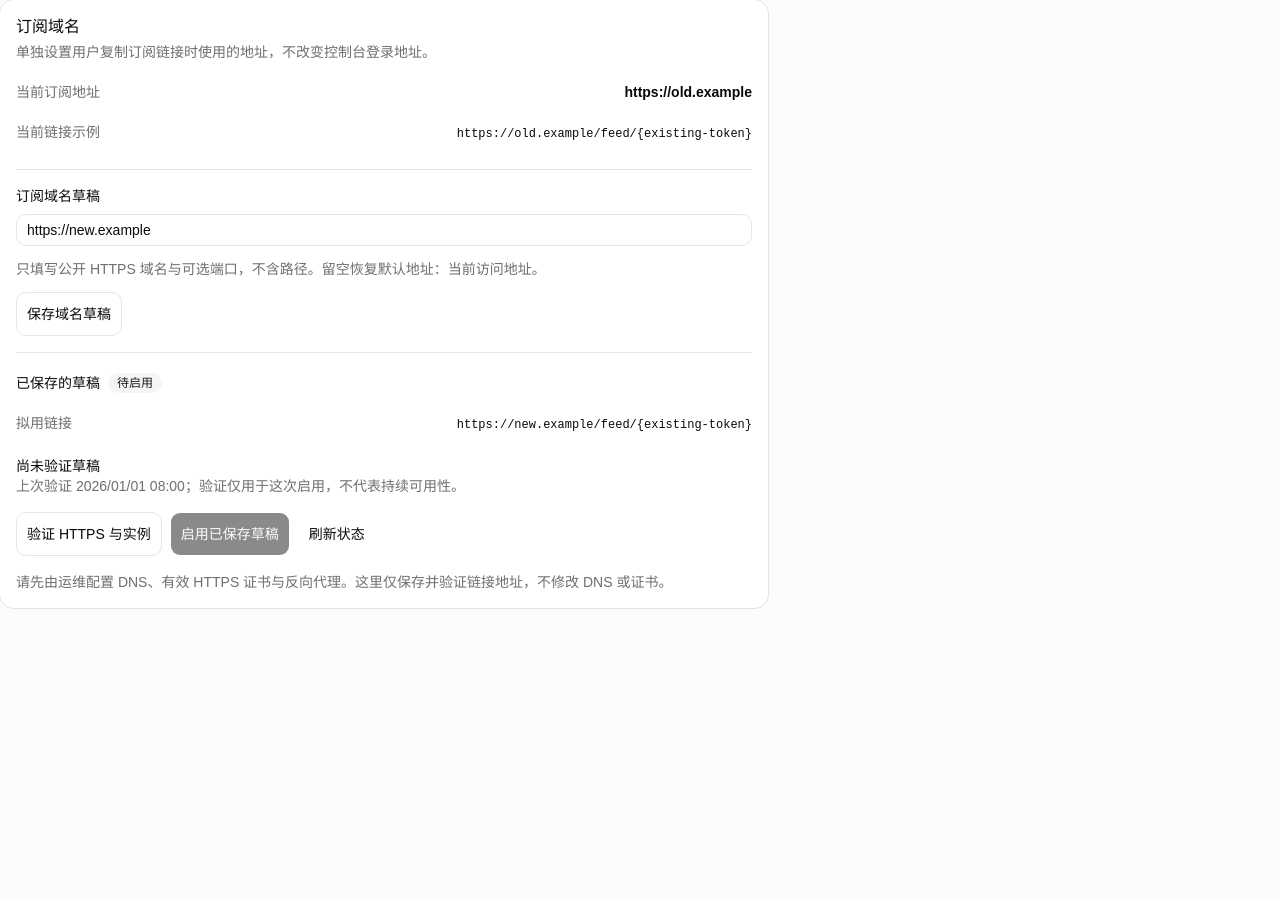
Scenario: refreshes a failed verification without replacing the active domain or losing typed input on stale activation
Expected: the text "https://old.example" is shown, [624,84,752,100]
Click the button "验证 HTTPS 与实例" at (89, 534), box [16,512,162,556]
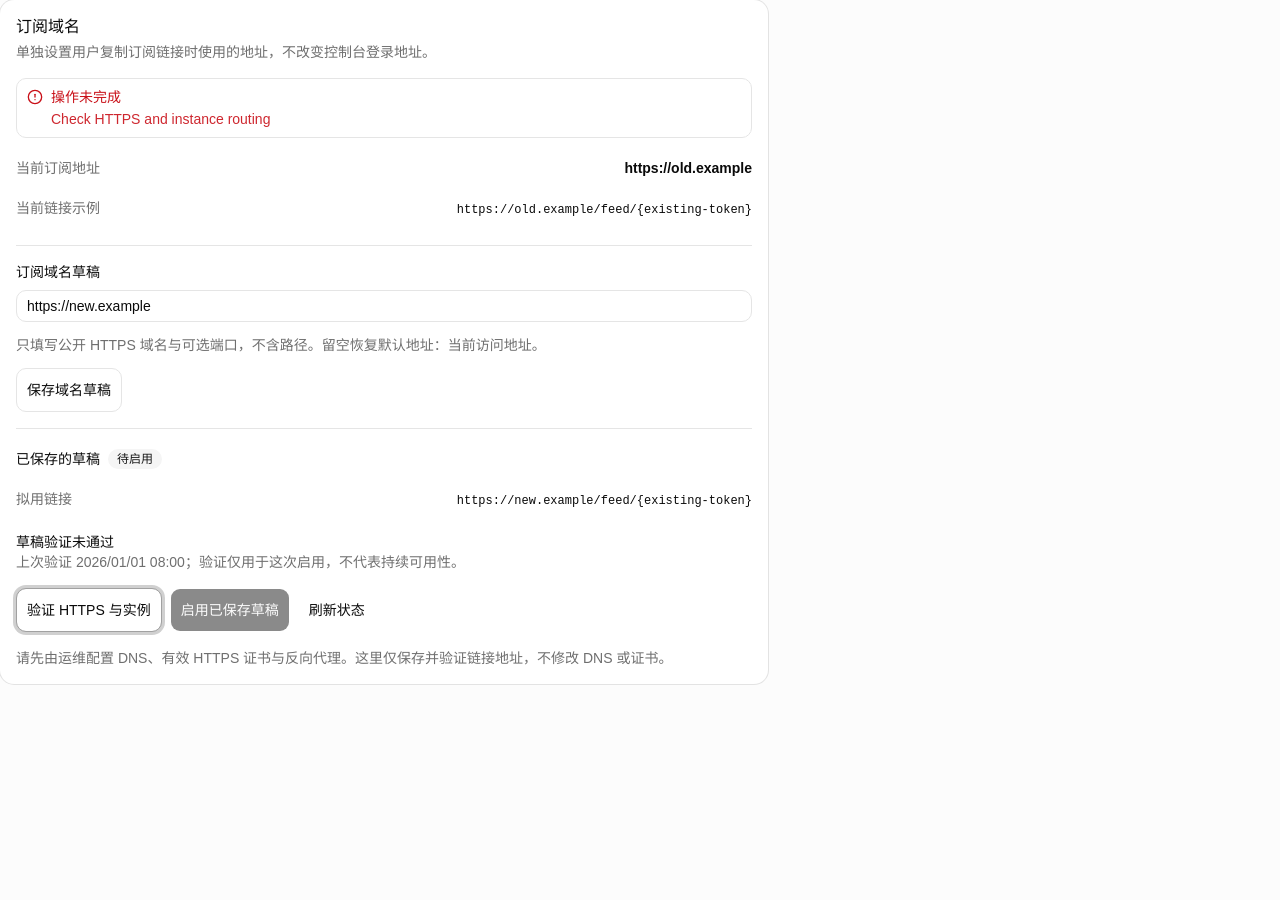
Expected: the text "https://old.example" is shown, [624,160,752,176]
Now the text "Check HTTPS and instance routing" is shown, box [51,111,270,127]
Click the button "验证 HTTPS 与实例" at (89, 610), box [16,588,162,632]
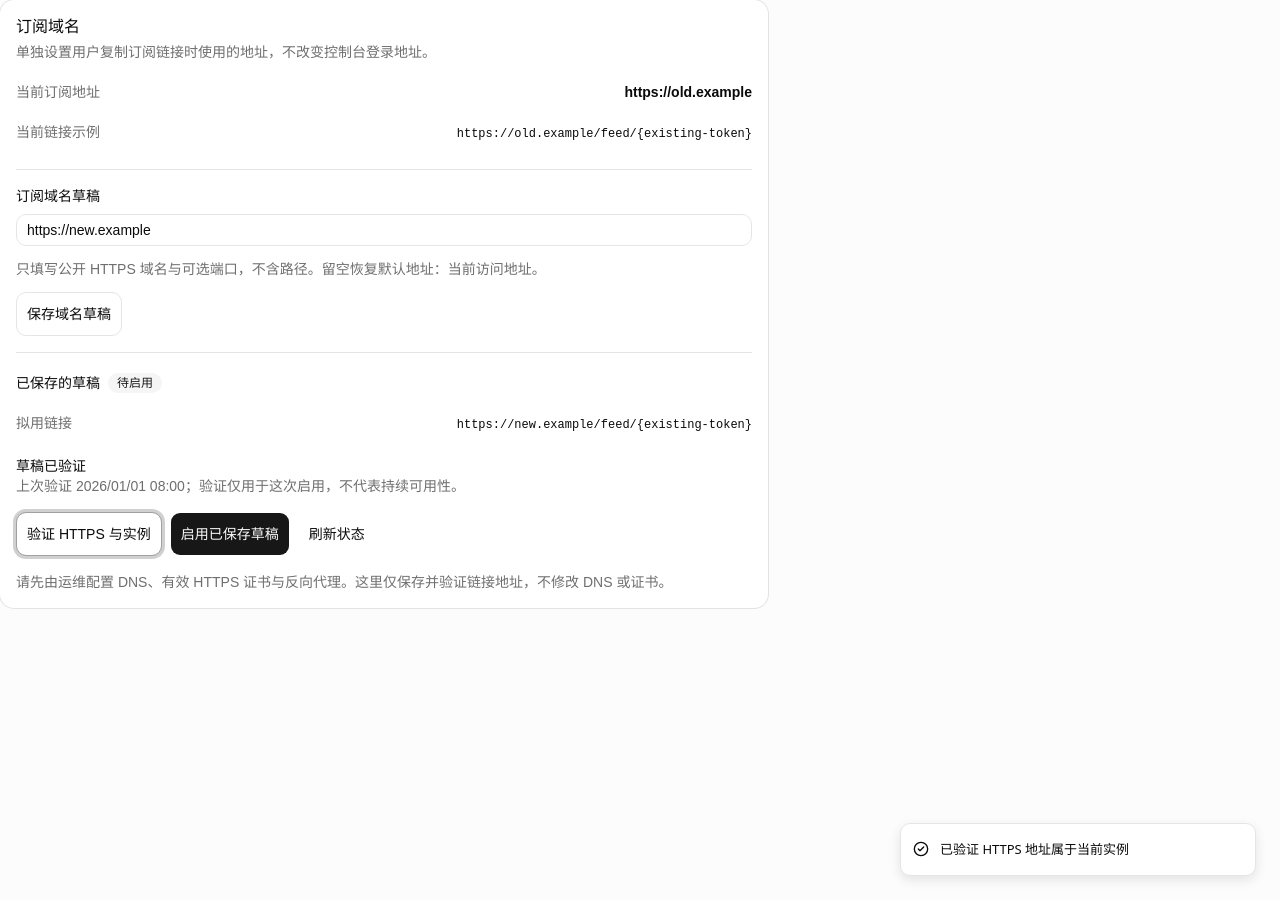
Now the button "启用已保存草稿" is enabled
Click the button "启用已保存草稿" at (230, 534), box [170,512,290,556]
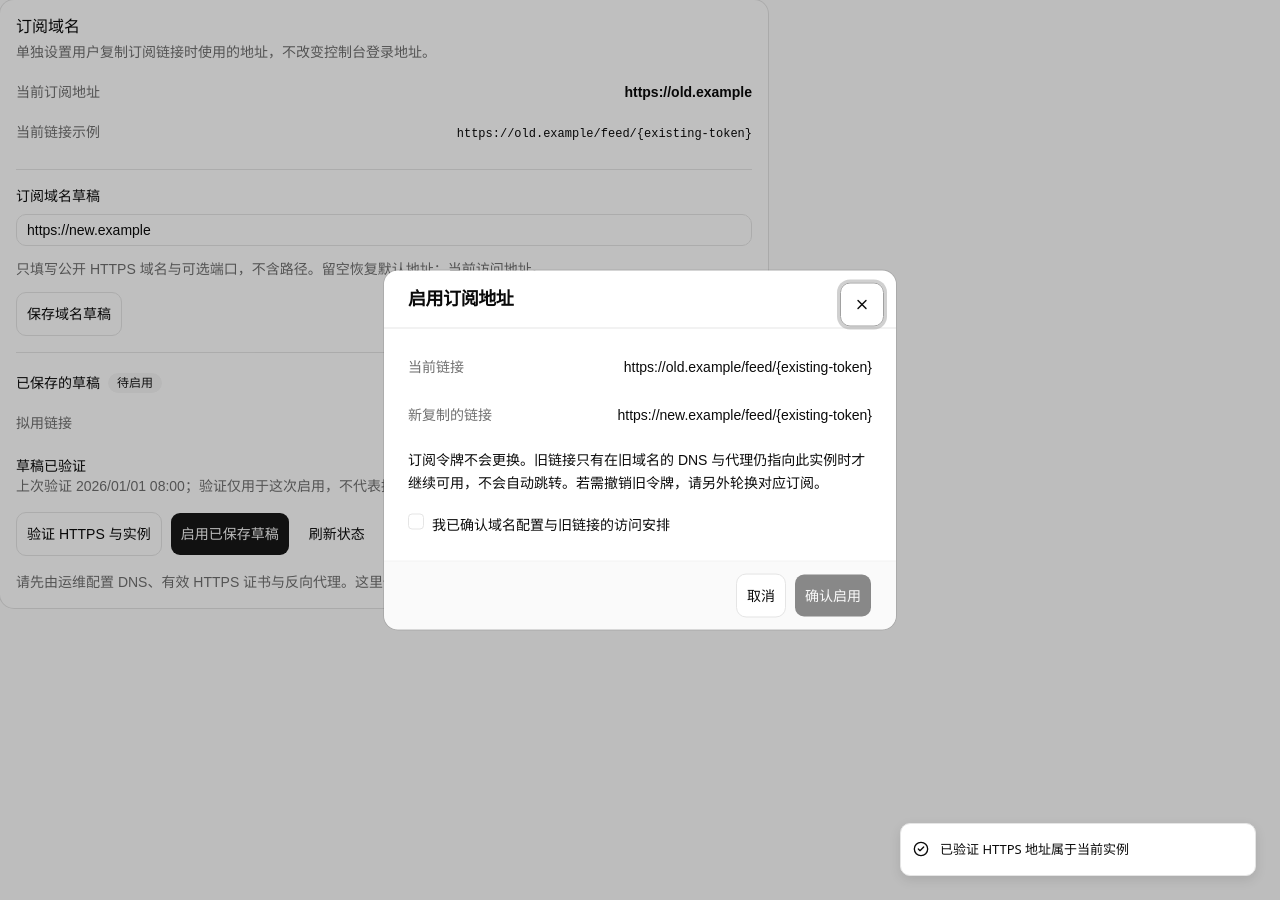
Click the checkbox named "我已确认域名" at (416, 522), box [408,514,424,530]
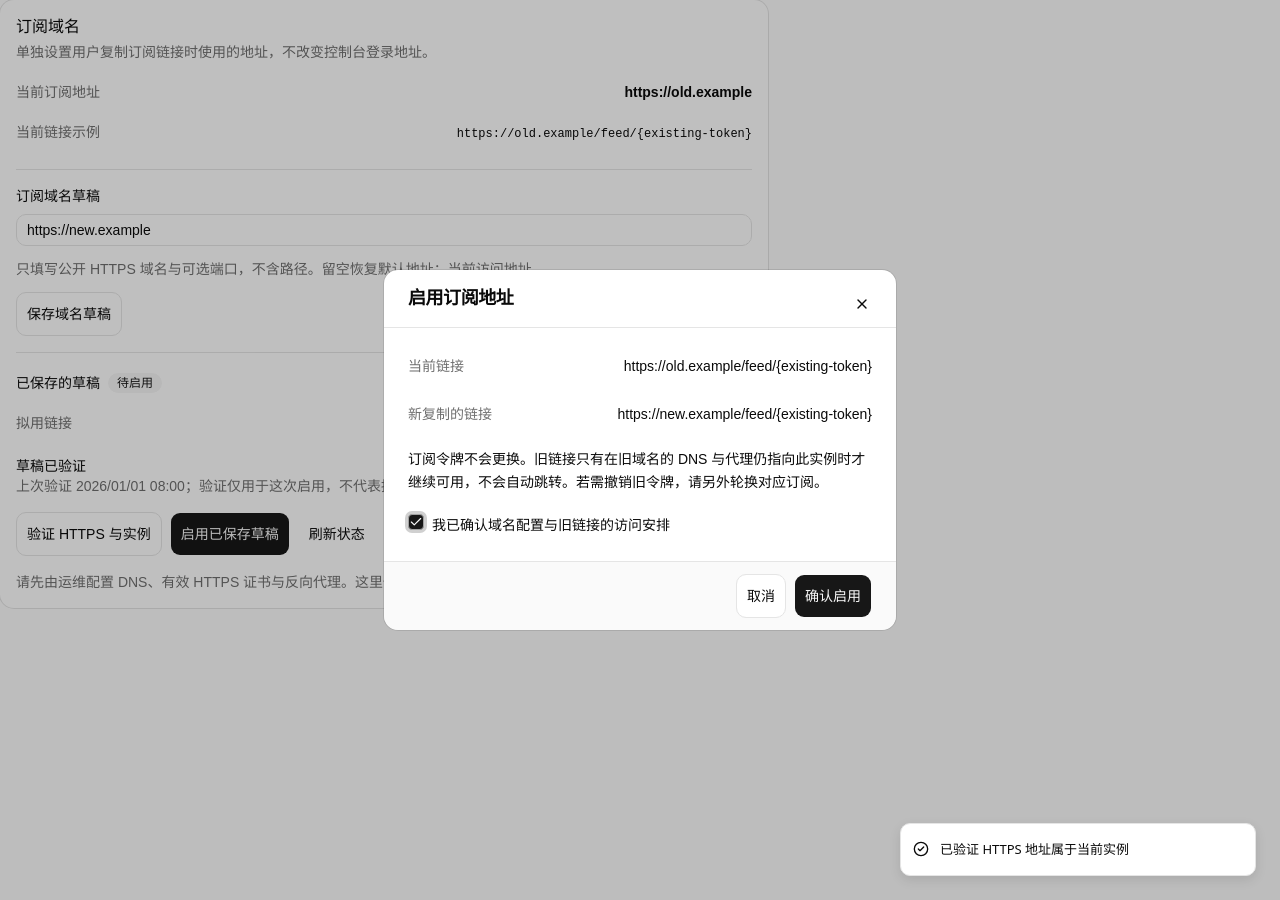
Click the button "确认启用" at (833, 596), box [794,574,872,618]
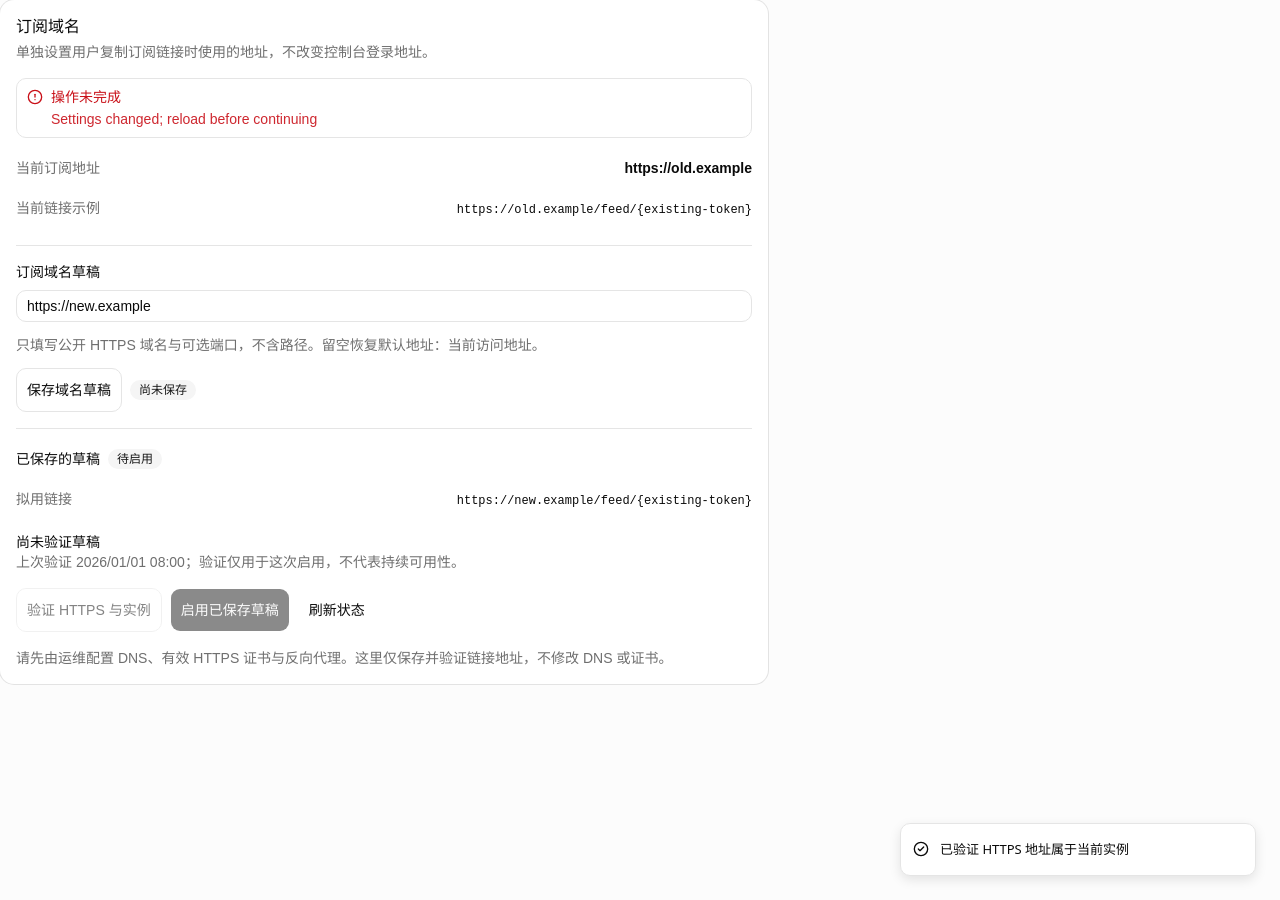
Expected: the field labelled "订阅域名草稿" holds "https://new.example", [16,290,752,322]
Now the text "Settings changed; reload before continuing" is shown, box [51,111,317,127]
Now the button "确认启用" is gone
